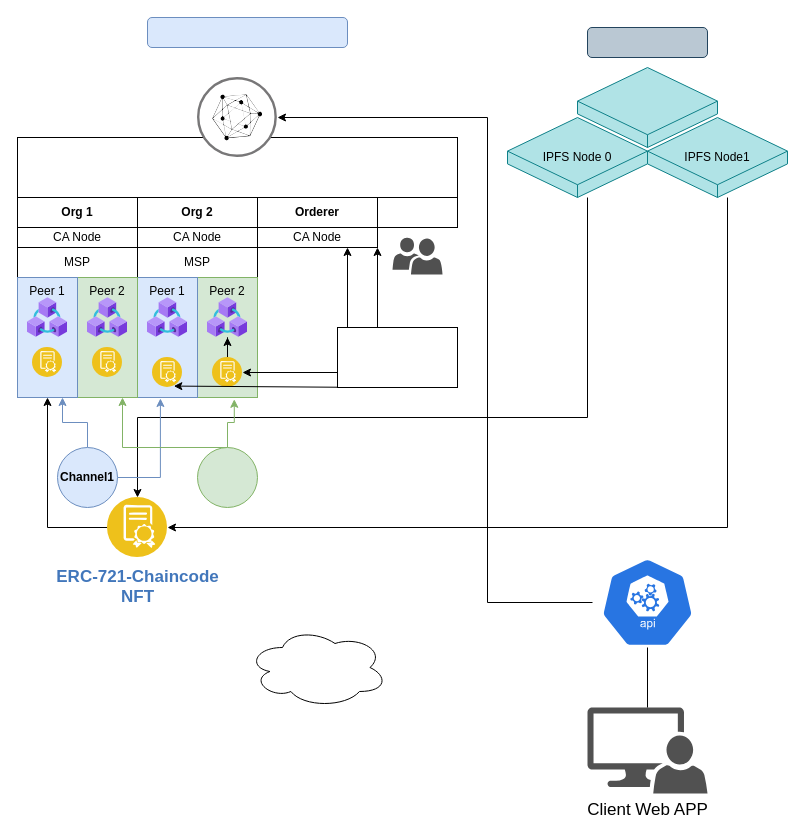
Image size: 805x838. Some labels were removed from this diagram. Here are the shapes that lost their labels. From the top down, the centre of each, then its label:
point (247, 32): NFT FRAMEWORK
point (647, 42): IPFS WEB-UI
point (647, 107): IPFS CLUSTER
point (237, 167): Hyperledger Fabric
point (417, 212): Explorer
point (227, 477): Channel2
point (647, 602): Server API
point (317, 667): Proof of Ownership
